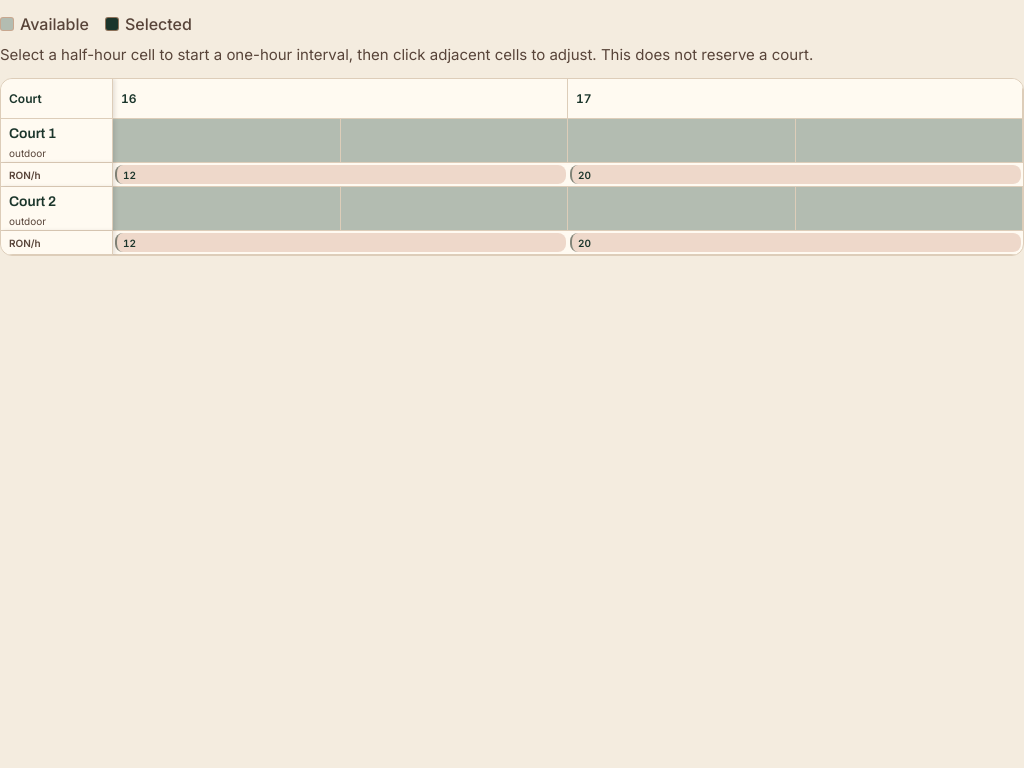
shows errors on blur only for touched contact fields
The width and height of the screenshot is (1024, 768).
Click the button named "Court 1 2026-10-01 16:00–16:30" at (227, 140), box [113,119,340,162]
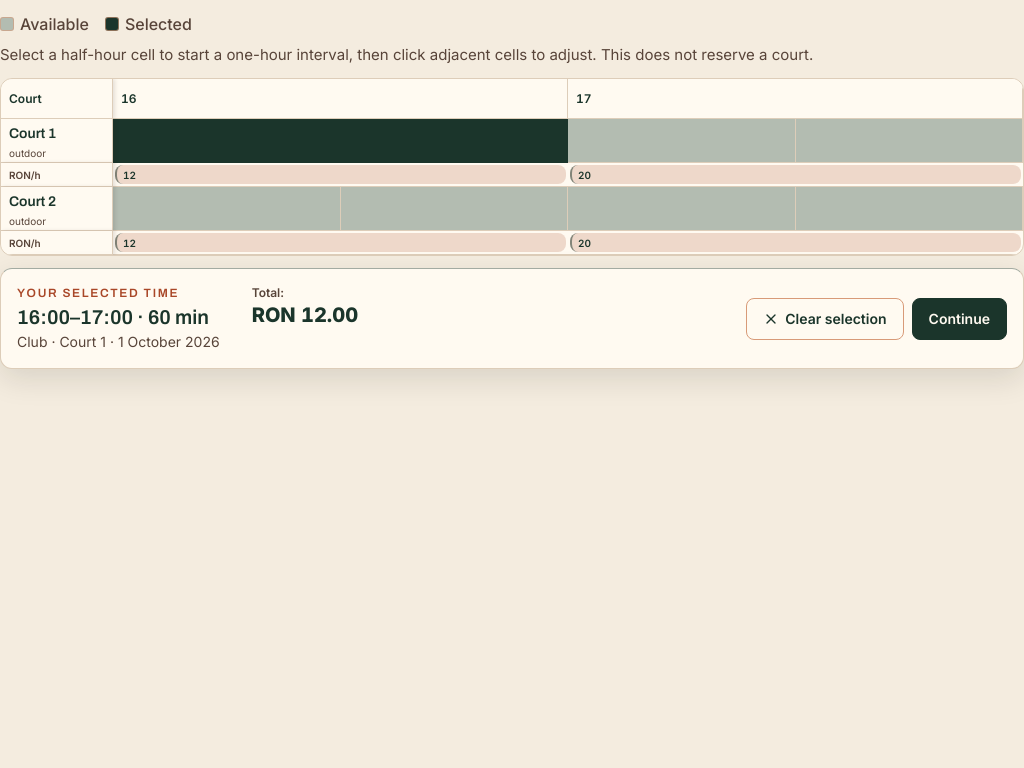
Click the button "Continue" at (959, 318), box [912,298,1007,340]
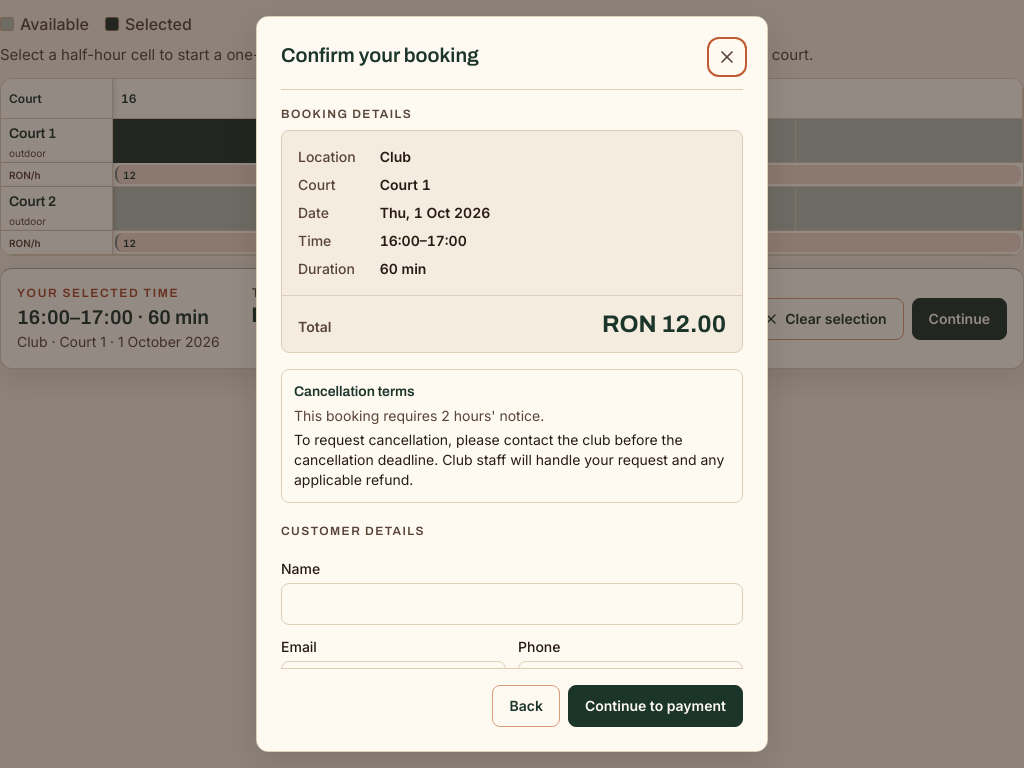
Expected: the dialog is shown, [256,16,768,752]
Leave the field labelled "Name", box [281,583,743,625]
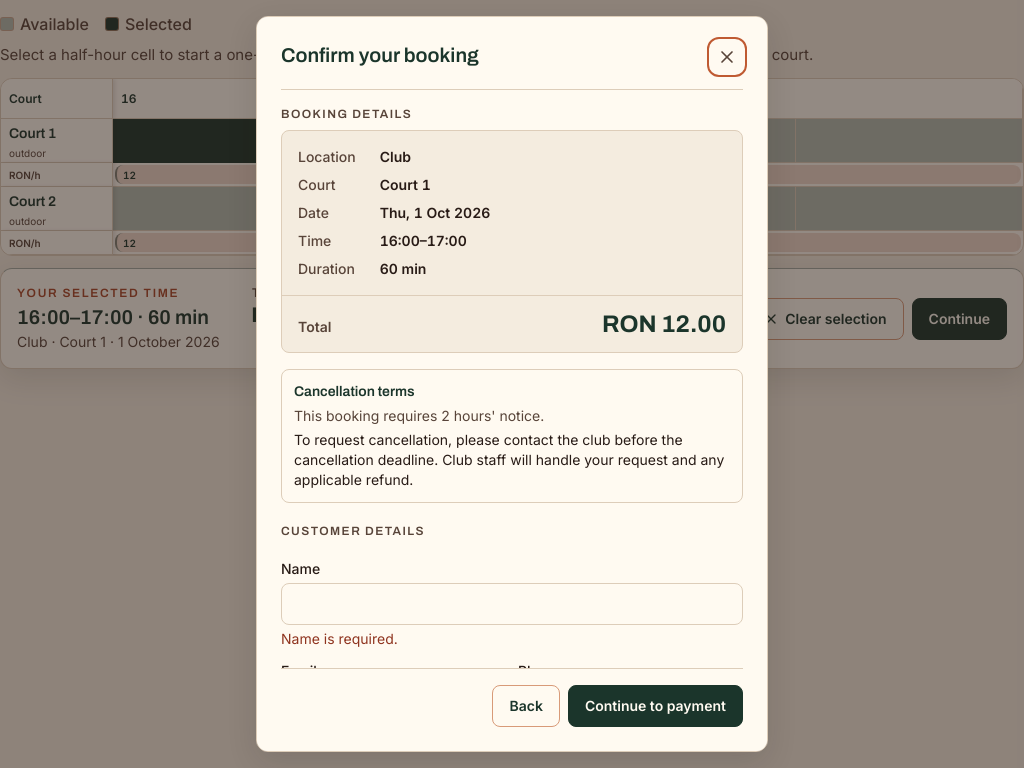
Expected: the text "Name is required." is shown, [281,630,398,647]
Type "Ana" into the field labelled "Name" at (512, 604), box [281,583,743,625]
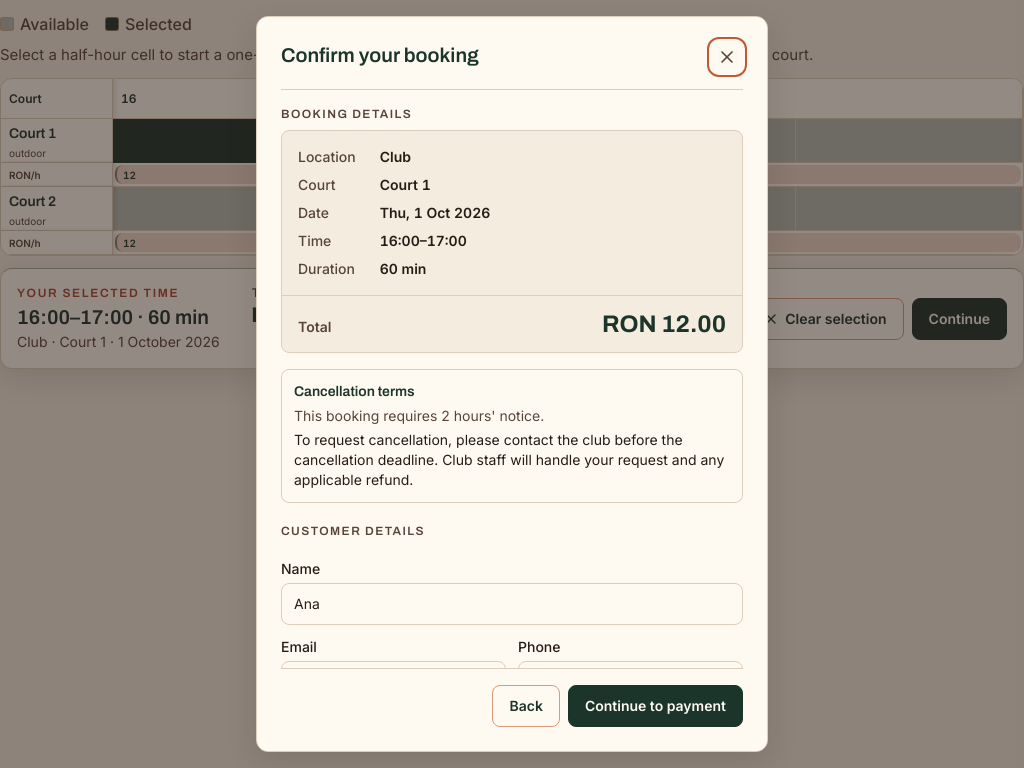
Expected: no messages are shown
